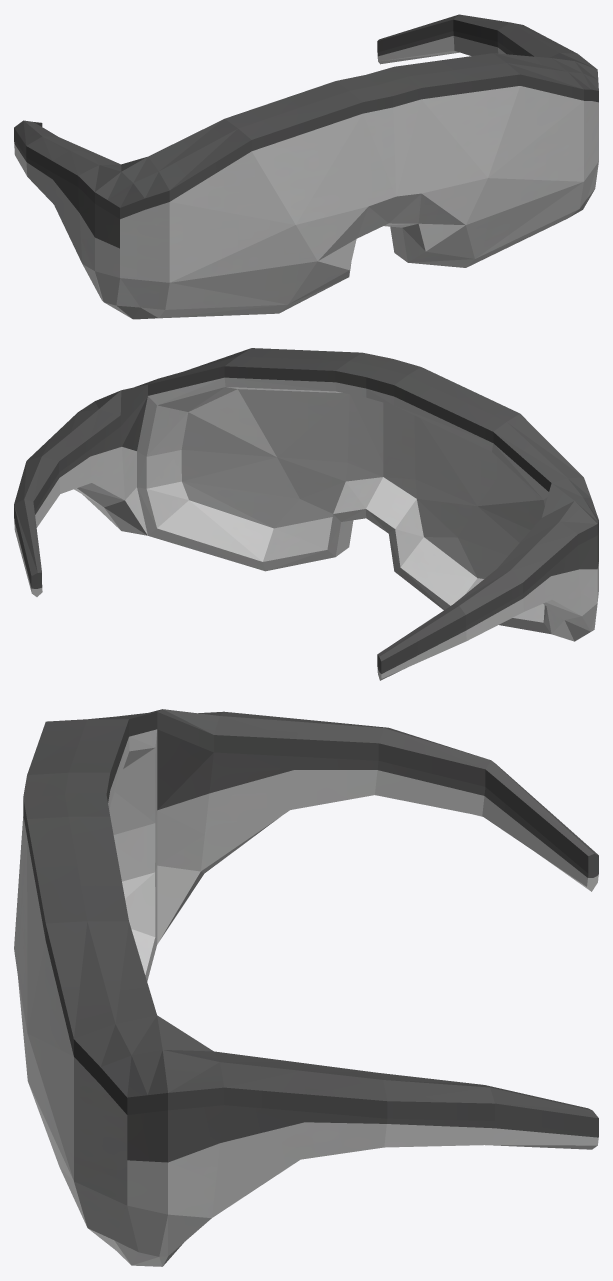
The model's file is plastic_glasses.obj.
3 renders of one model, top to bottom at view 1: azimuth 30°, elevation 25°; view 2: azimuth 150°, elevation 25°; view 3: azimuth 270°, elevation 25°, orthographic. The views are drawn at different scales.
Visible parts, largest first — view 1: plastic_glasses_Material; view 2: plastic_glasses_Material; view 3: plastic_glasses_Material.
Boxes of the visible parts, bbox=[...] form: plastic_glasses_Material: bbox=[14, 14, 598, 319]; plastic_glasses_Material: bbox=[14, 348, 598, 680]; plastic_glasses_Material: bbox=[14, 709, 598, 1266].
Bounding box in the file's own units: 0.199 × 0.08 × 0.1301.
